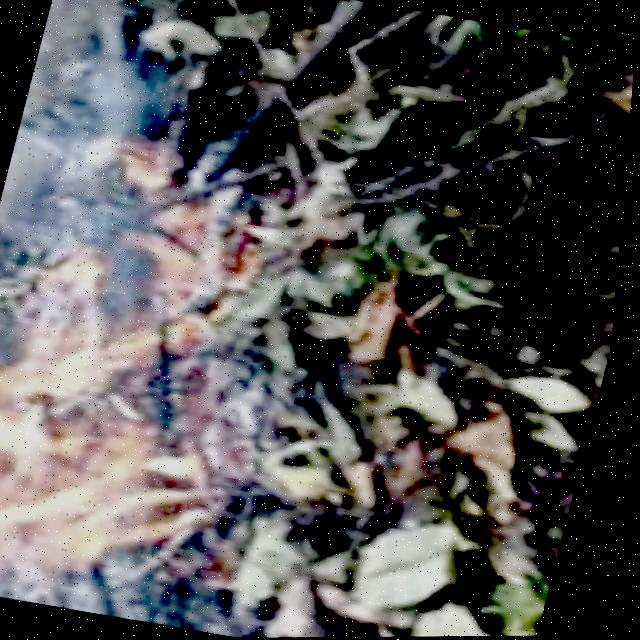Fire: (0, 132, 290, 613)
